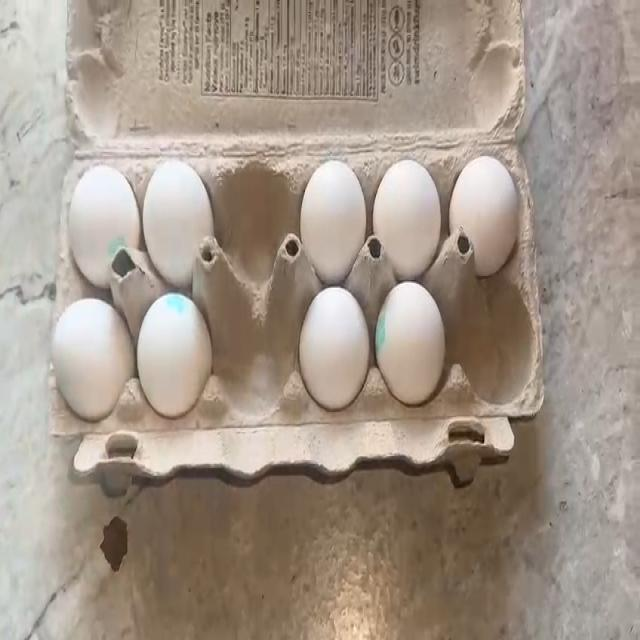Egg: (66, 160, 138, 289), (137, 301, 216, 417), (46, 298, 126, 411), (452, 150, 515, 259), (374, 154, 440, 258), (384, 281, 444, 395), (297, 159, 364, 260), (307, 292, 369, 394), (148, 168, 204, 268)
